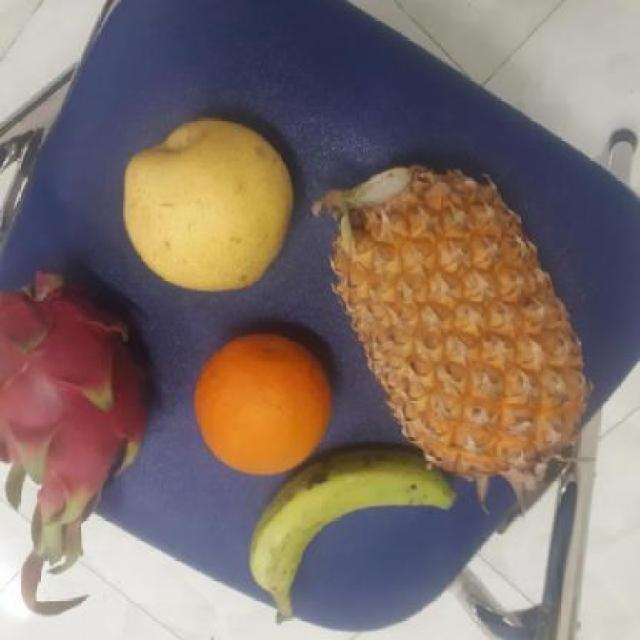banana: (251, 452, 463, 615)
dragon fruit: (0, 258, 155, 509)
oren: (187, 329, 341, 475)
pear: (115, 112, 303, 289)
pineapple: (322, 170, 596, 472)
